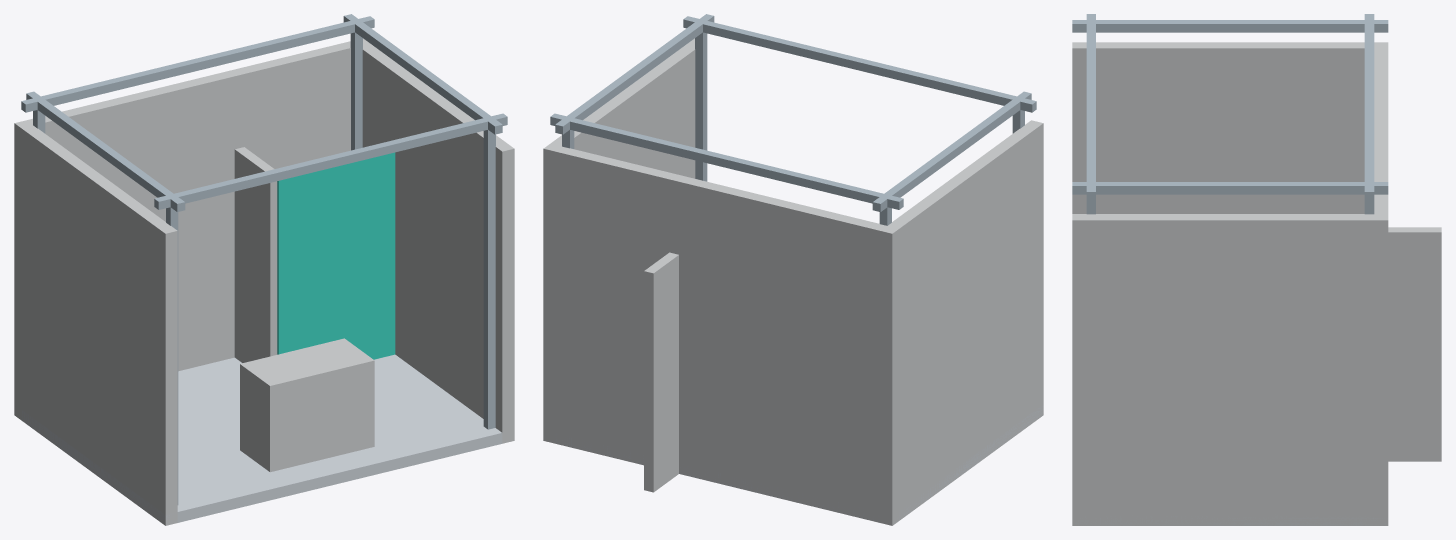
3 views of the same model, side by side, from view 1: azimuth 30°, elevation 25°; view 2: azimuth 150°, elevation 25°; view 3: azimuth 270°, elevation 25° (orthographic). The views are drawn at different scales.
Visible parts, largest first — view 1: Exhibition Booth Concept; view 2: Exhibition Booth Concept; view 3: Exhibition Booth Concept.
Part boxes in pixels (x1=…): Exhibition Booth Concept: x1=14, y1=14, x2=514, y2=525; Exhibition Booth Concept: x1=543, y1=14, x2=1043, y2=525; Exhibition Booth Concept: x1=1072, y1=14, x2=1441, y2=525.
Bounding box in the file's own units: 4 × 3.49 × 3.51.
